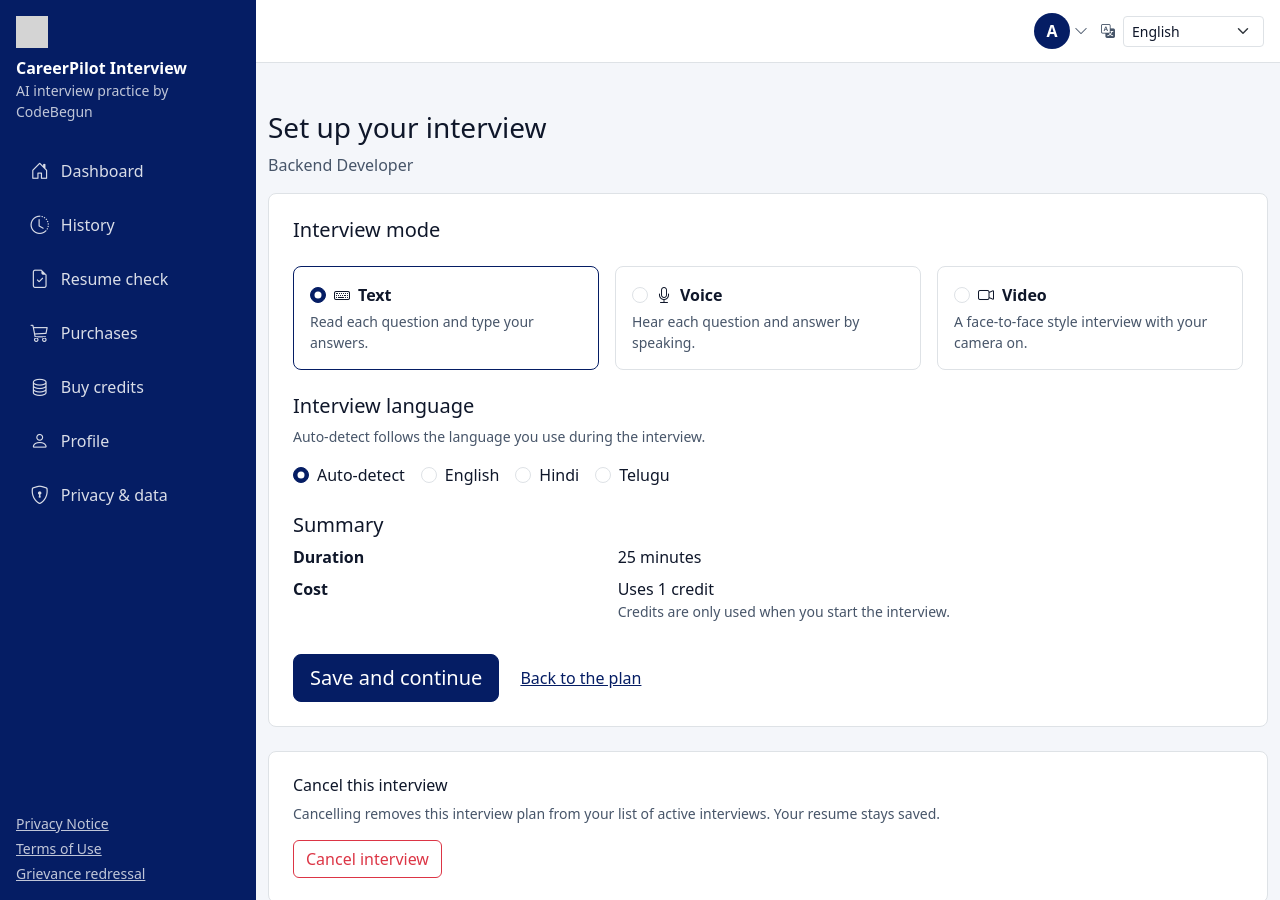
Test case: interview setup page › explains video interviews and continues to the camera check
The width and height of the screenshot is (1280, 900).
Click the radio button labelled "Video" at [962, 295], box [954,287,970,303]
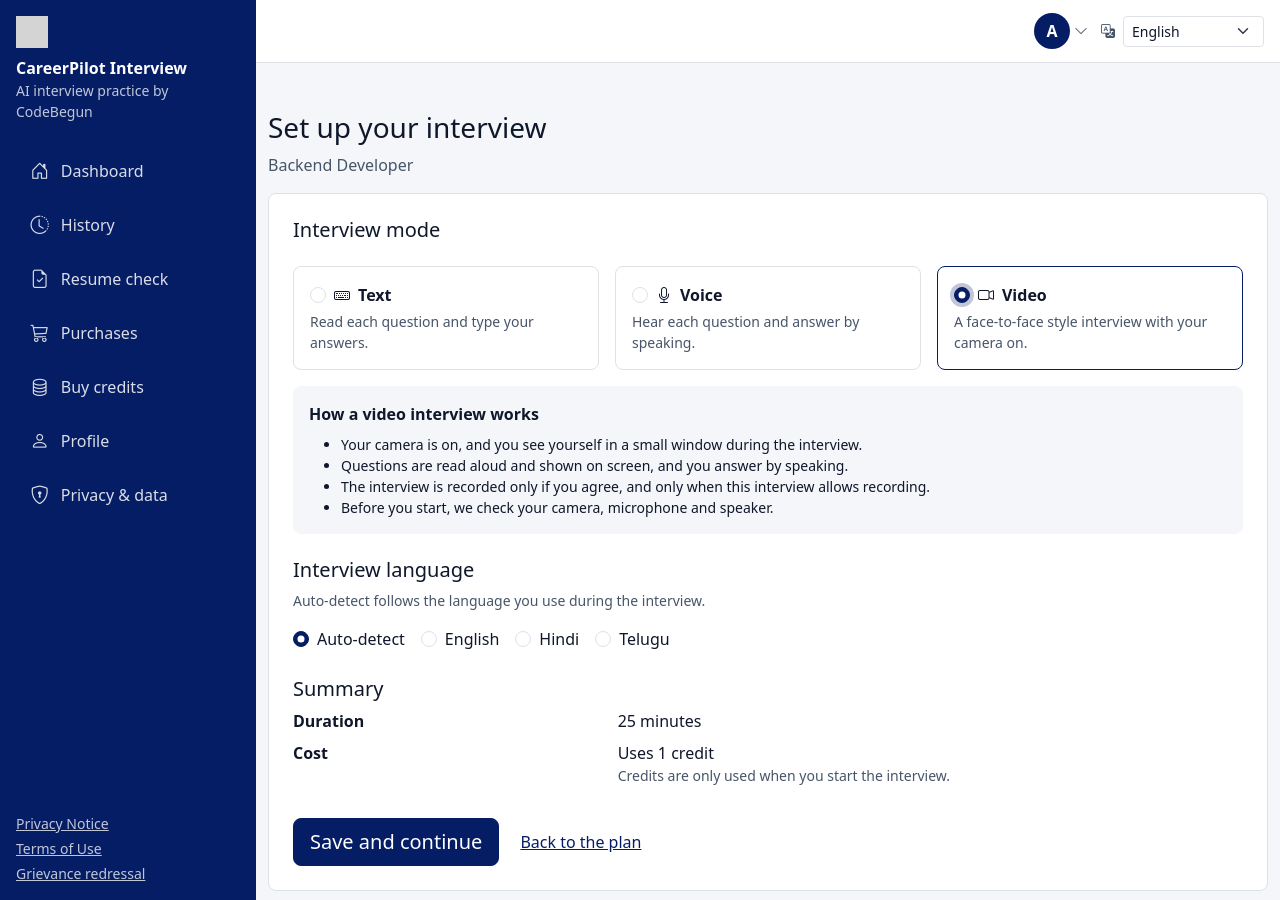
Expected: the text "How a video interview works" is shown, [309,403,539,425]
Expected: the list item "you see yourself in a small window" is shown, [341,435,862,454]
Expected: the list item "recorded only if you agree" is shown, [341,477,930,496]
Click the button "Save and continue" at [396, 842], box [293,818,499,866]
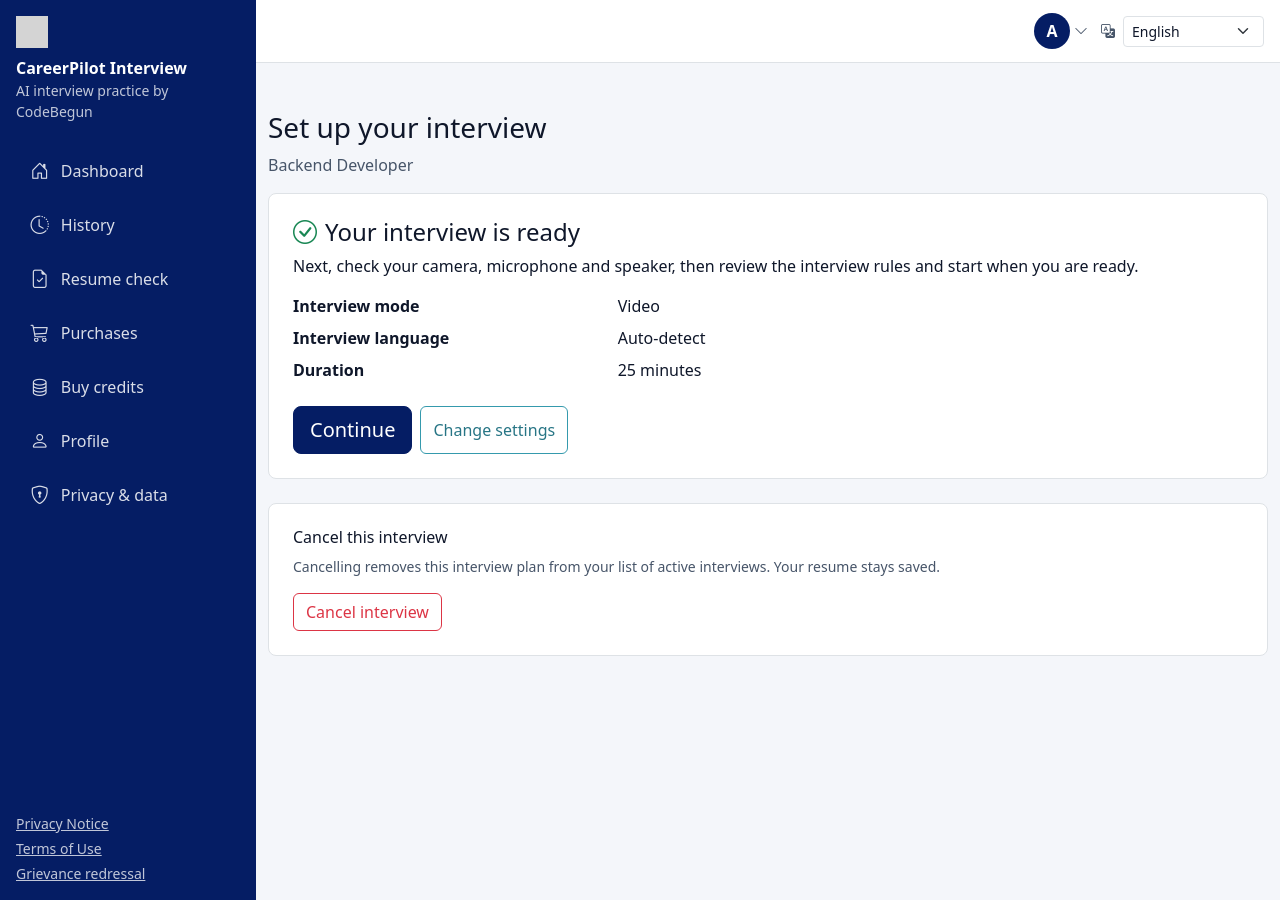
Expected: the text "check your camera, microphone and speaker" is shown, [293,255,1138,277]
